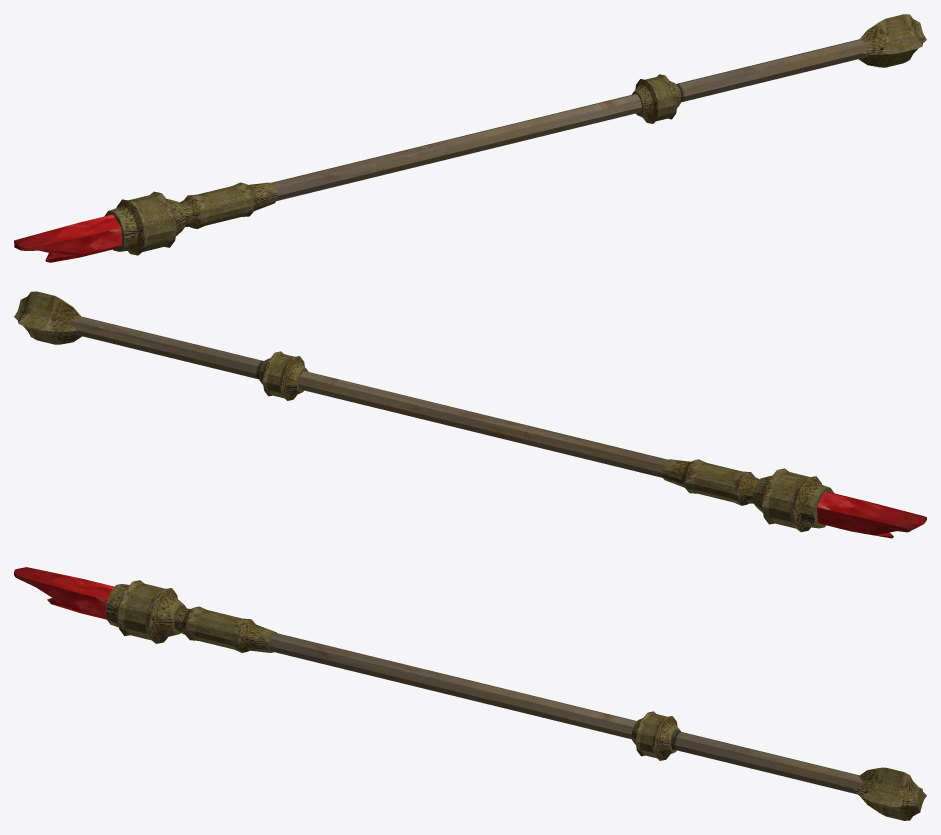
The model's file is G3_WEAPON_STAFF_FIREMAGE_02.glb.
3 views of the same model, one above another, from view 1: azimuth 30°, elevation 25°; view 2: azimuth 150°, elevation 25°; view 3: azimuth 330°, elevation 25° (orthographic).
Visible parts, largest first — view 1: G3_WEAPON_STAFF_FIREMAGE_02; view 2: G3_WEAPON_STAFF_FIREMAGE_02; view 3: G3_WEAPON_STAFF_FIREMAGE_02.
Boxes of the visible parts, x1,y1,x2,y2 form: G3_WEAPON_STAFF_FIREMAGE_02: (14, 14, 926, 262); G3_WEAPON_STAFF_FIREMAGE_02: (14, 291, 926, 538); G3_WEAPON_STAFF_FIREMAGE_02: (14, 567, 926, 820).
Bounding box in the file's own units: 1.97 × 0.1105 × 0.1115.
Materials: 1 (1 with a texture image).
